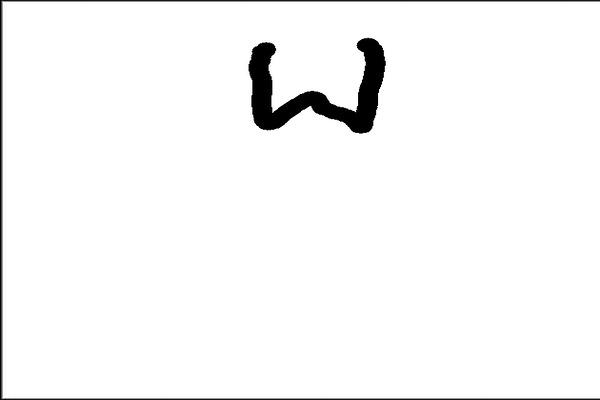w: (220, 22, 390, 145)
